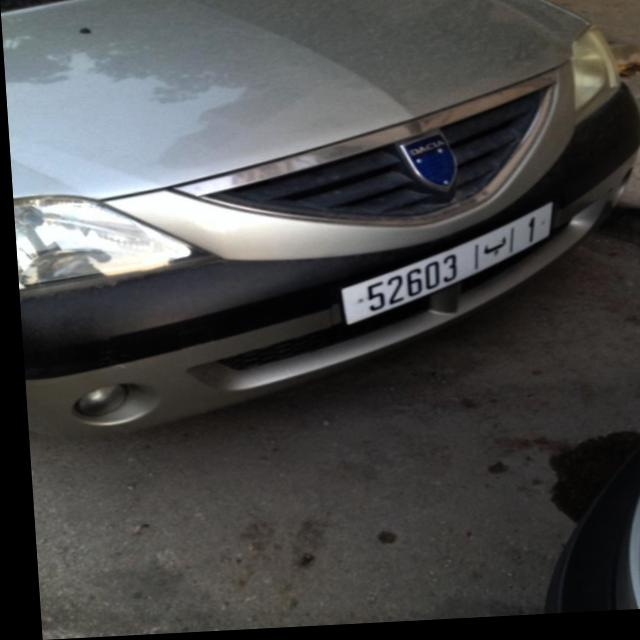License-Plate: (336, 209, 549, 328)
